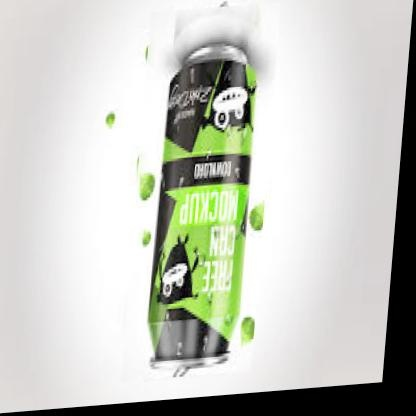trash: (149, 41, 255, 361), (149, 43, 255, 359)
